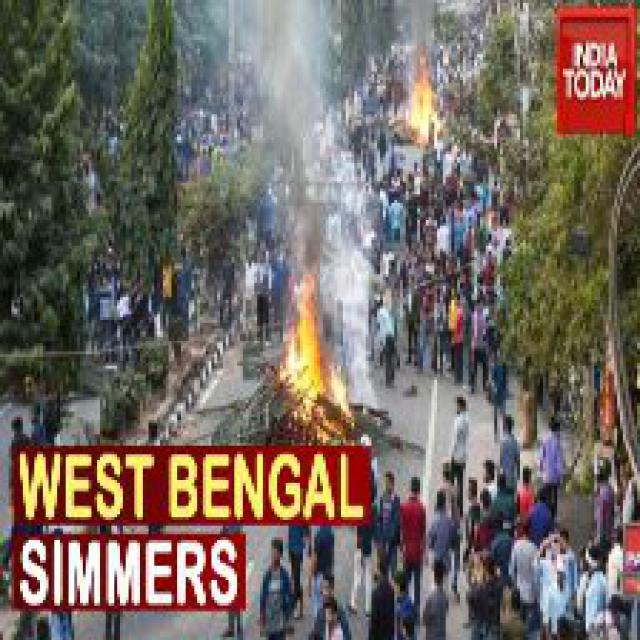fire: (271, 272, 363, 432), (406, 66, 440, 146)
